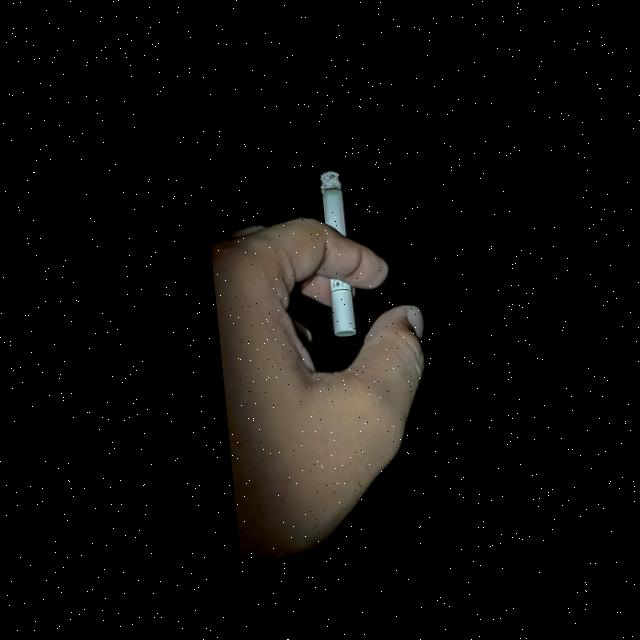cigarette: (314, 176, 348, 342)
